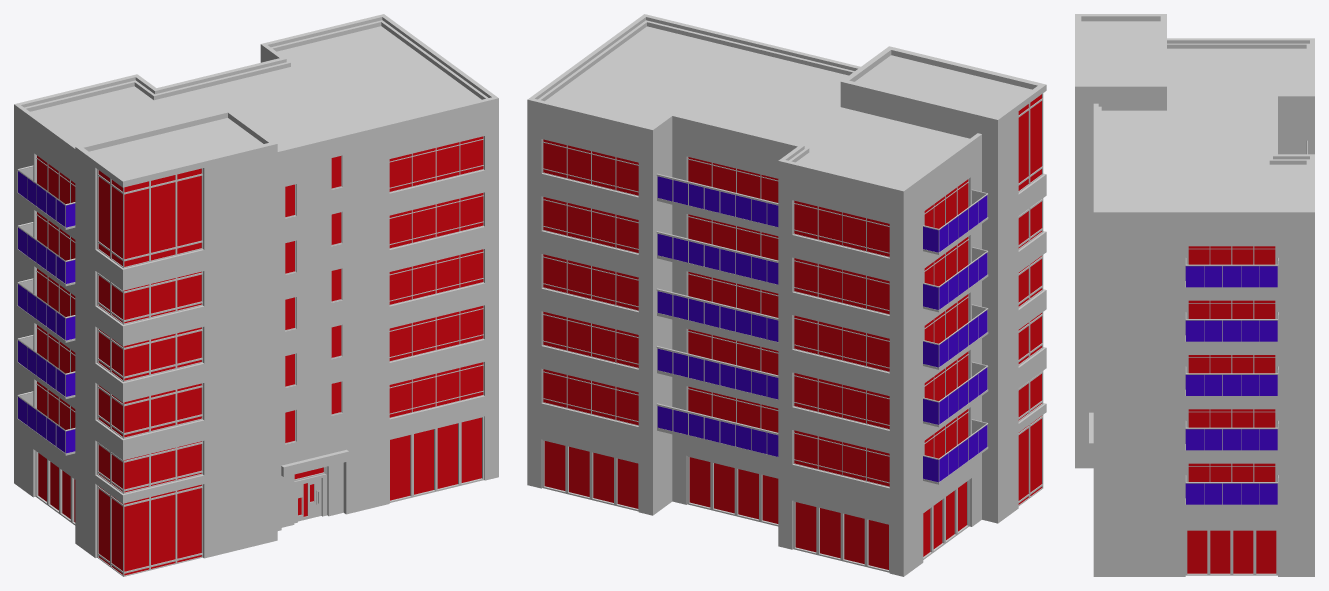
File: SM_House_06.glb
3 views of the same model, side by side, from view 1: azimuth 30°, elevation 25°; view 2: azimuth 150°, elevation 25°; view 3: azimuth 270°, elevation 25° (orthographic). The views are drawn at different scales.
Parts seen in each view (by area): view 1: House_06; view 2: House_06; view 3: House_06.
Boxes of the visible parts, x1=… form: House_06: x1=14, y1=14, x2=498, y2=576; House_06: x1=527, y1=14, x2=1046, y2=576; House_06: x1=1075, y1=14, x2=1314, y2=576.
Size of the model in its own units: 26.04 by 24.6 by 14.
